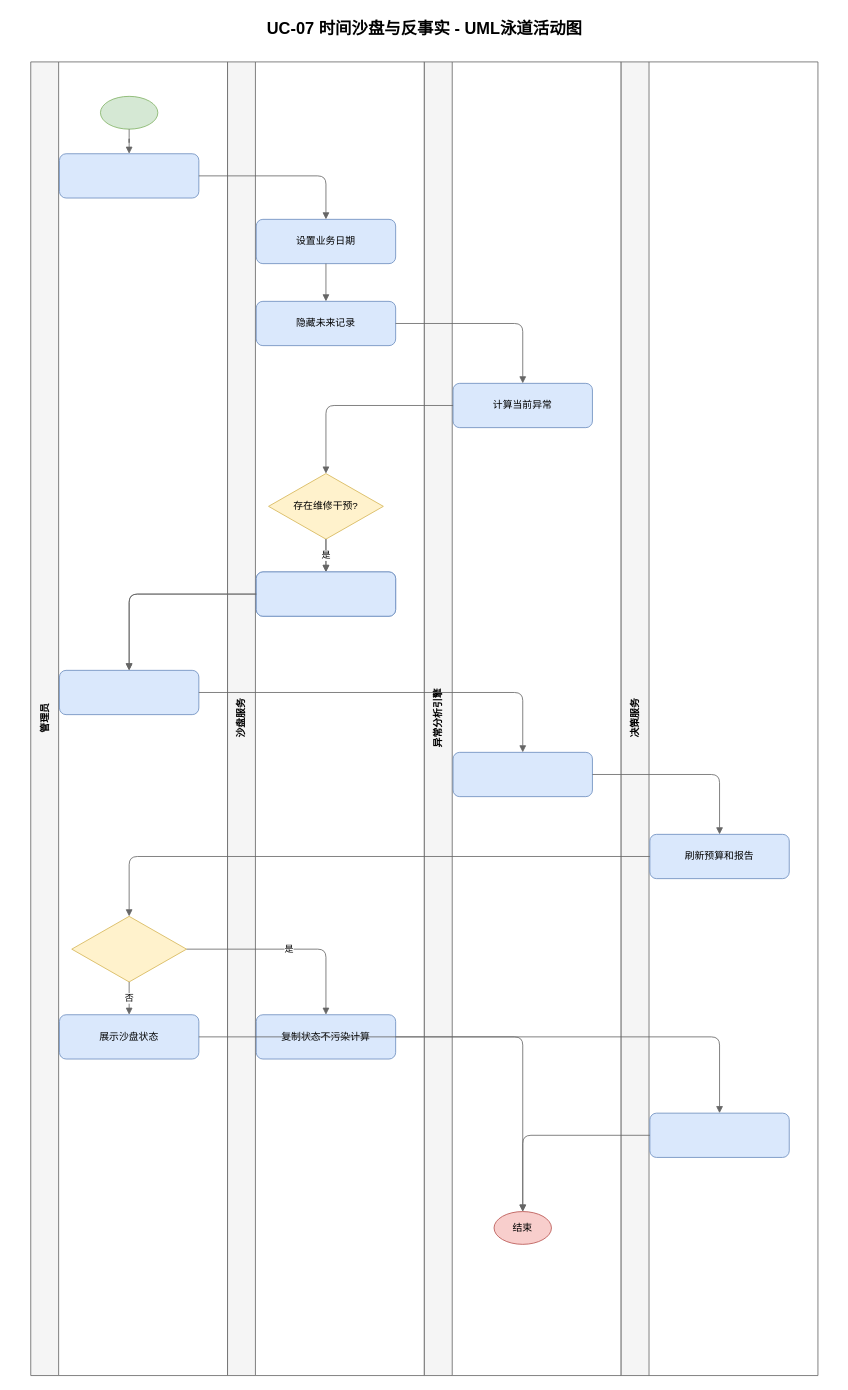
The diagram is 848 pixels wide and 1390 high, and some of its shapes have lost their labels. The shapes that lost their labels are listed below. From the top down, each one's centre as x and y in pixels, then its label:
At pixel 129 112: "开始".
At pixel 129 175: "启动沙盘".
At pixel 325 593: "应用维修干预".
At pixel 129 692: "推进日期".
At pixel 522 774: "重算异常和风险".
At pixel 129 949: "请求反事实?".
At pixel 719 1134: "比较三种策略损失".
